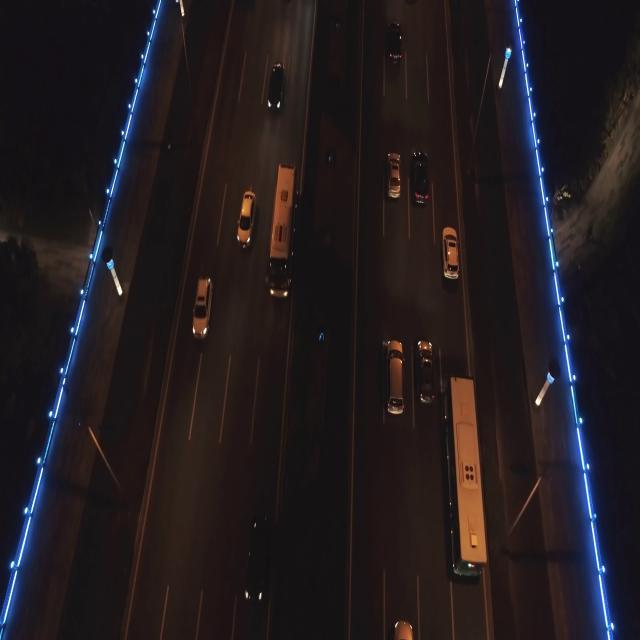vehicle: (444, 372, 486, 578), (267, 163, 296, 300), (244, 516, 270, 603), (386, 338, 404, 416), (192, 275, 212, 339), (416, 338, 434, 404), (236, 190, 256, 247), (412, 149, 429, 204), (442, 226, 459, 280), (268, 62, 284, 110), (386, 152, 402, 198), (387, 22, 402, 62), (393, 619, 414, 640)
